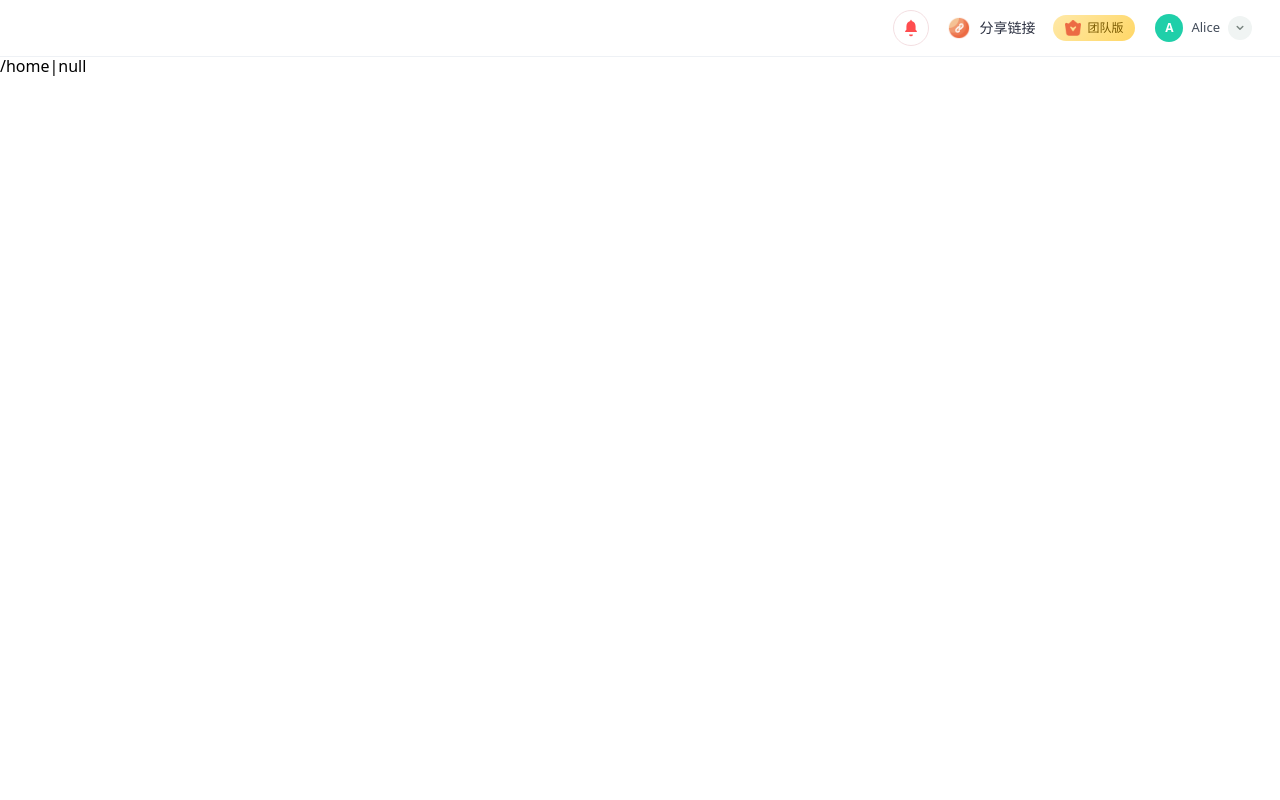
it: AppTopbar › loads membership, falls back from a broken avatar, and exposes an Escape-closeable user dialog
The image size is (1280, 800).
Click the button "A Alice": click(1203, 28) [1147,9,1258,47]
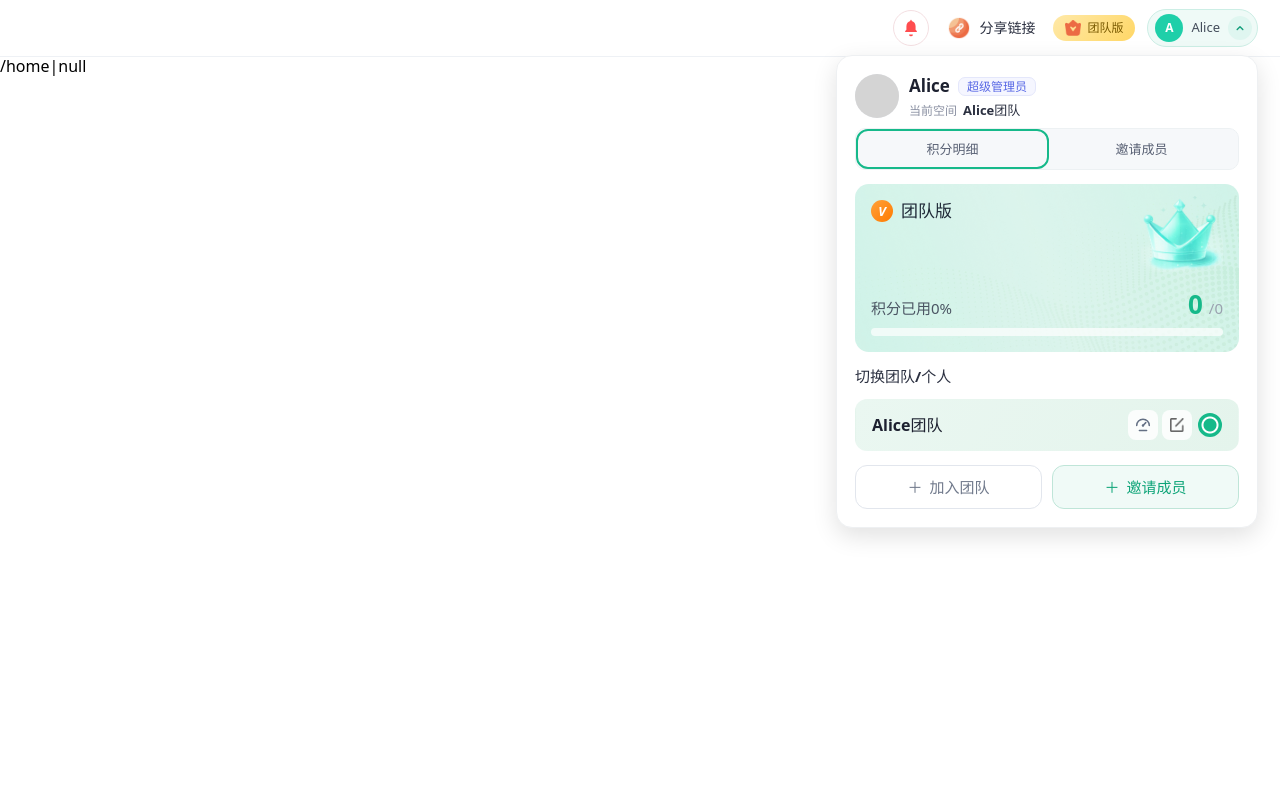
Check: the dialog named "用户面板" is shown, box [836,55,1258,528]
Check: the button "A Alice" is expanded, box [1147,9,1258,47]
Press Escape
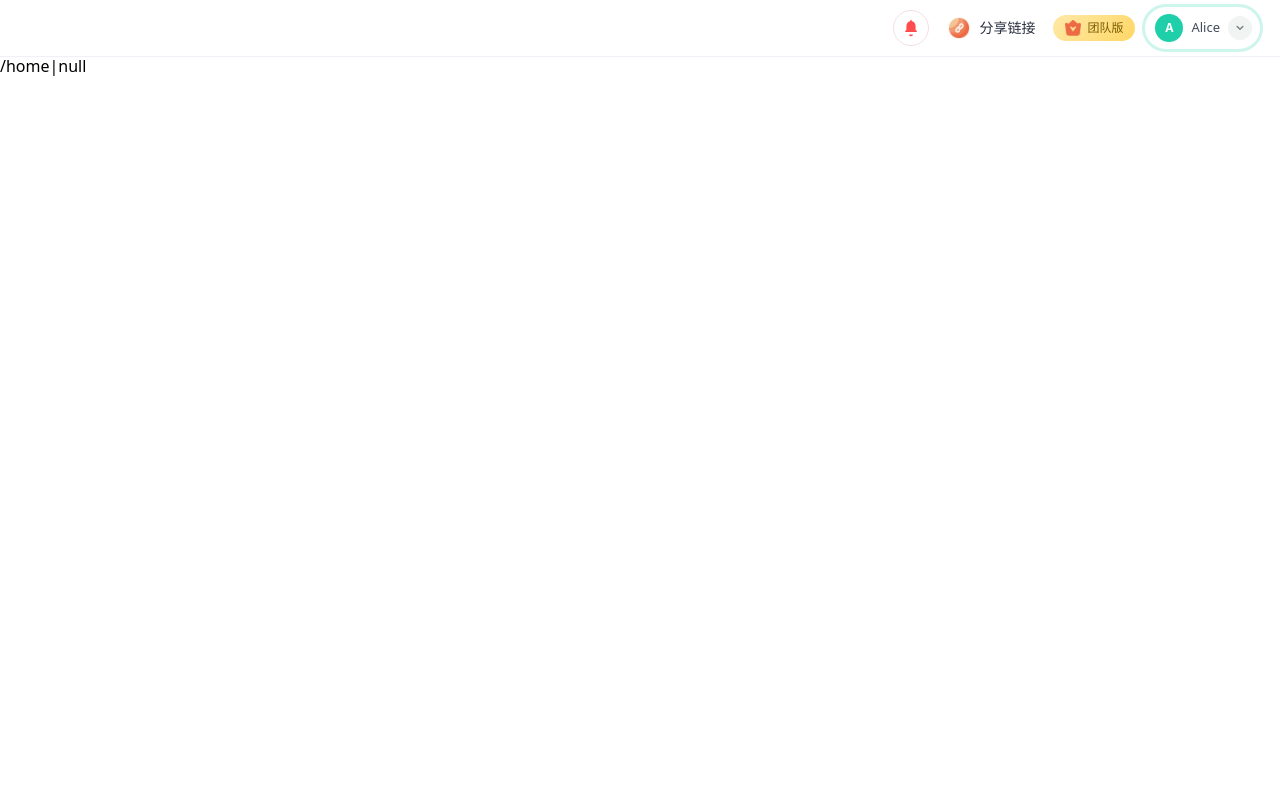
Check: the dialog "用户面板" is gone
